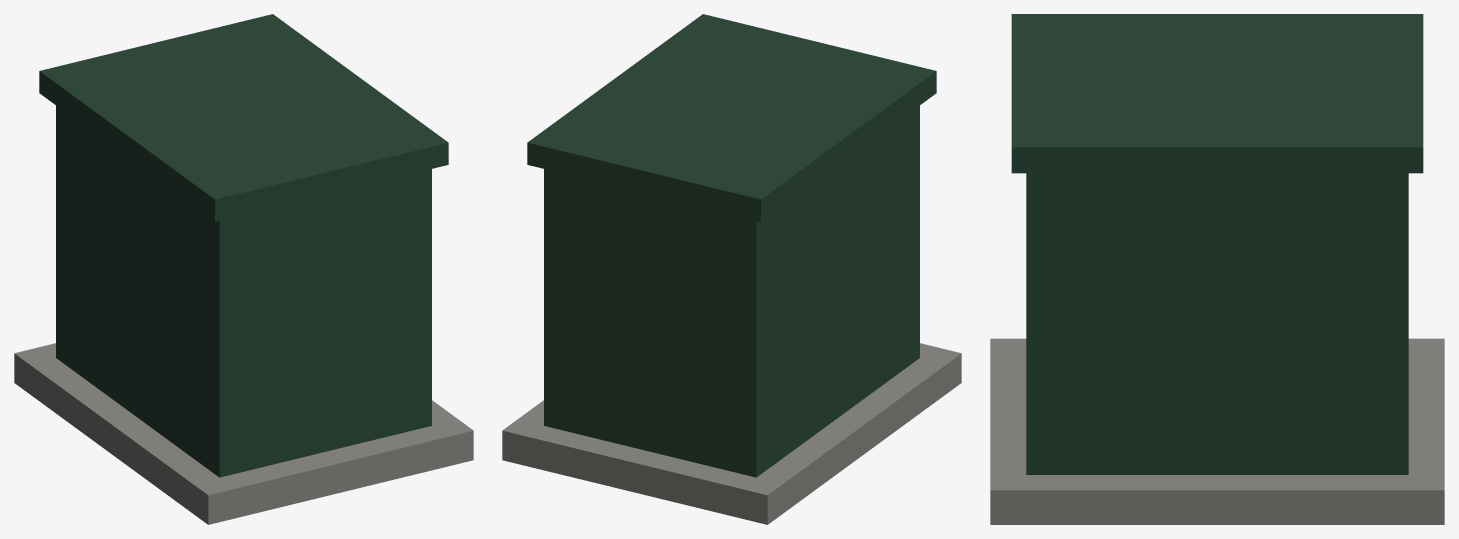
File: SM_Prop_power_kiosk_0_LOD2.glb
The picture shows the model from 3 angles, left to right: view 1: azimuth 30°, elevation 25°; view 2: azimuth 150°, elevation 25°; view 3: azimuth 270°, elevation 25°; orthographic projection. The views are drawn at different scales.
Visible parts, largest first — view 1: SM_Prop_power_kiosk_0_LOD2; view 2: SM_Prop_power_kiosk_0_LOD2; view 3: SM_Prop_power_kiosk_0_LOD2.
Boxes of the visible parts, bbox=[...] form: SM_Prop_power_kiosk_0_LOD2: bbox=[14, 14, 473, 524]; SM_Prop_power_kiosk_0_LOD2: bbox=[502, 14, 961, 524]; SM_Prop_power_kiosk_0_LOD2: bbox=[990, 14, 1444, 524].
Size of the model in its own units: 1.5 by 1.7 by 1.9.
